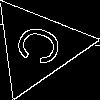C: (12, 21, 74, 73)
